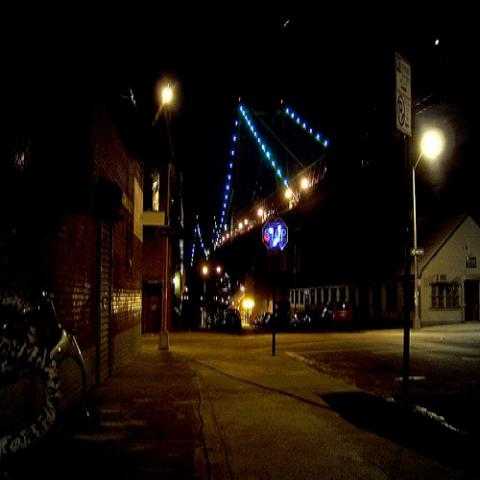car: (292, 304, 330, 334), (331, 299, 353, 333), (220, 308, 242, 333), (262, 313, 272, 328), (255, 314, 264, 329)
